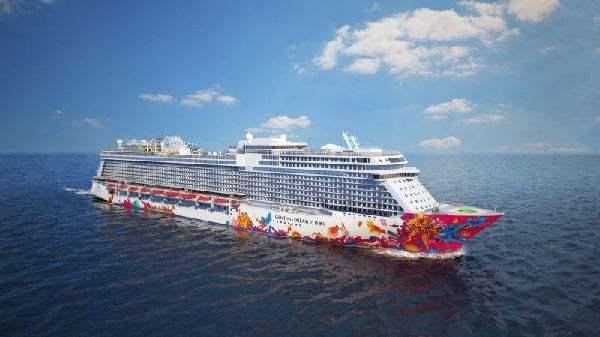youlun: (86, 129, 512, 250)
